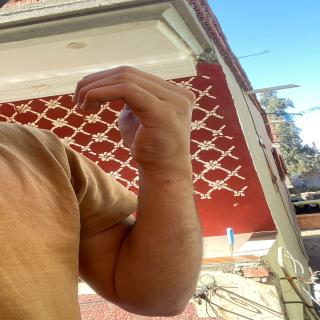HAA: (60, 55, 214, 159)
